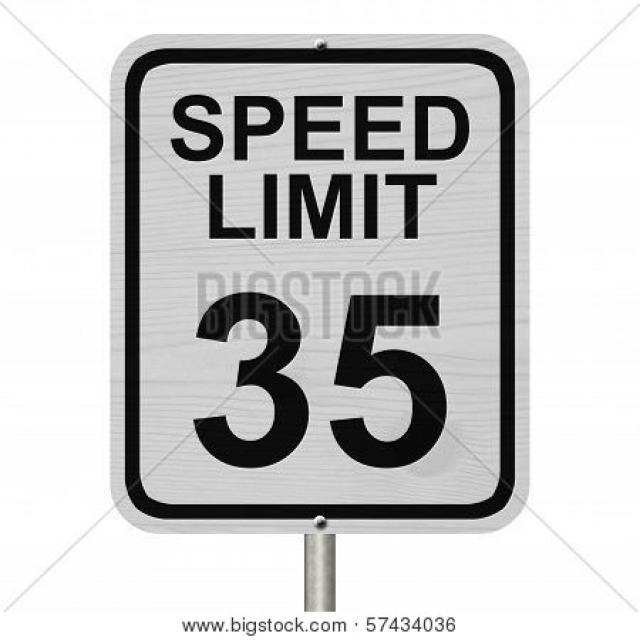speedLimit35: (108, 31, 531, 528)
